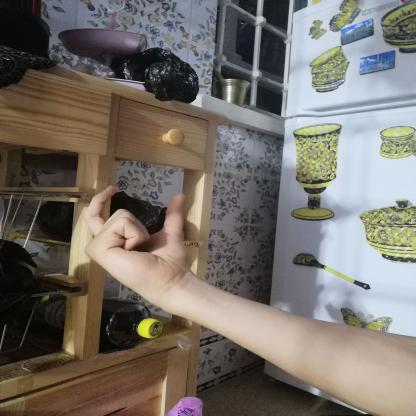NOON: (71, 181, 202, 302)
